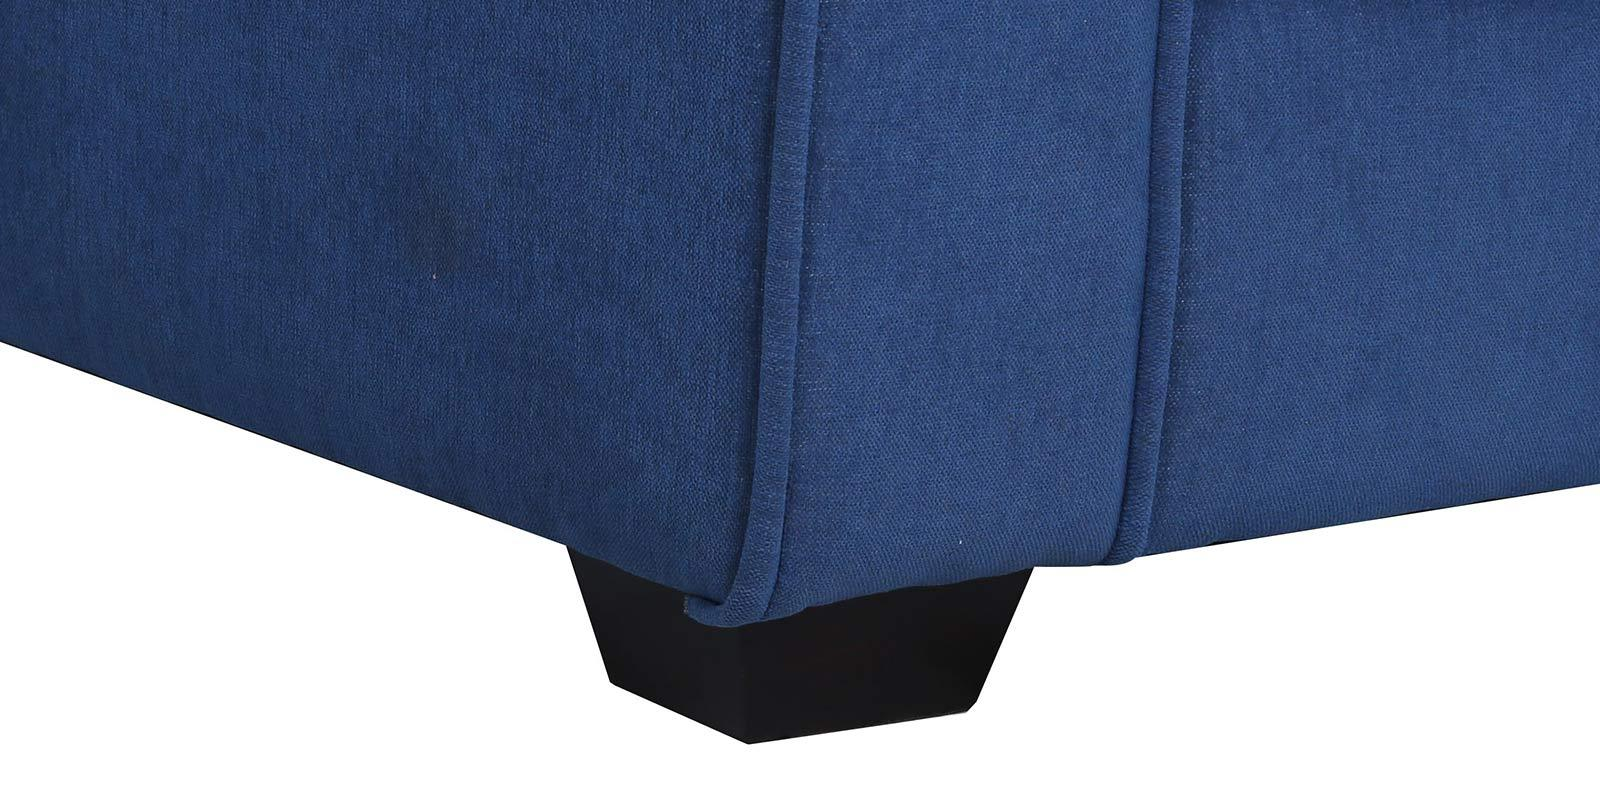Hugo Three Seater Sofa in Denim Blue Colour by CasaCraft: (6, 3, 1600, 755)
